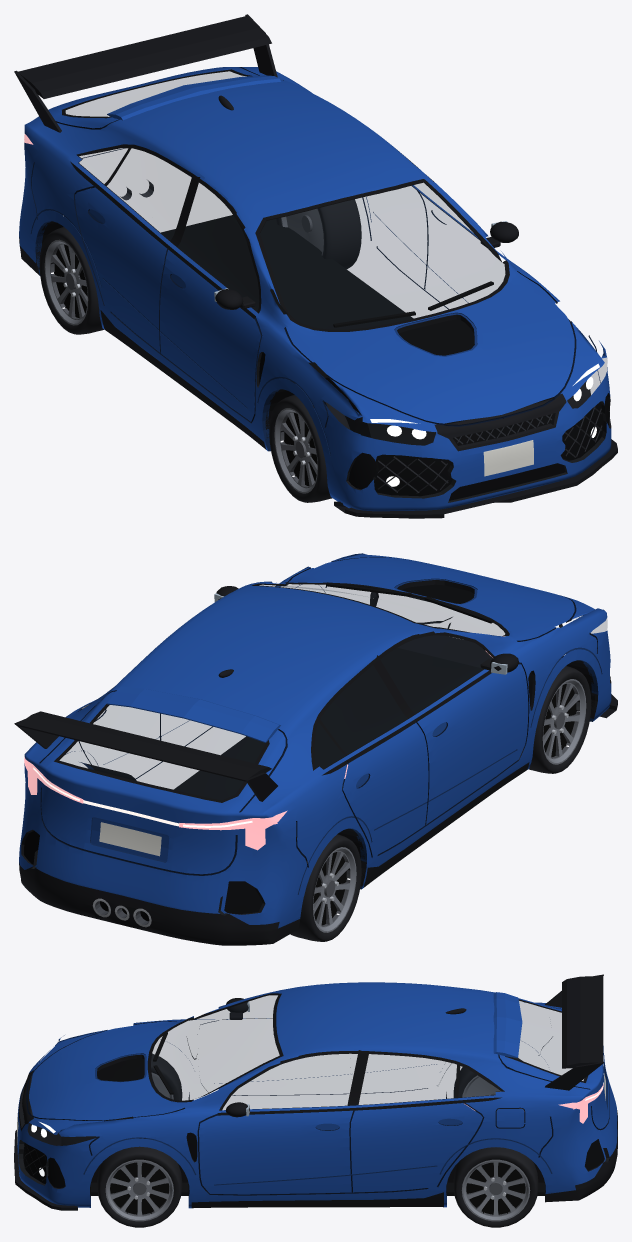
The model's file is car_hatch_r_blue.glb.
3 views of the same model, one above another, from view 1: azimuth 30°, elevation 25°; view 2: azimuth 150°, elevation 25°; view 3: azimuth 270°, elevation 25° (orthographic). The views are drawn at different scales.
Parts seen in each view (by area): view 1: body, wheel_fl, wheel_rl, wheel_rr; view 2: body, wheel_rl, wheel_fl; view 3: body, wheel_rr, wheel_fr, wheel_rl, wheel_fl.
Part boxes in pixels (x1,y1,x2,y2): body: [14, 14, 617, 518]; wheel_fl: [269, 395, 350, 502]; wheel_rl: [39, 227, 103, 334]; wheel_rr: [276, 199, 361, 269]; body: [14, 553, 617, 945]; wheel_rl: [290, 834, 361, 941]; wheel_fl: [528, 666, 591, 773]; body: [14, 974, 617, 1210]; wheel_rr: [453, 1147, 538, 1227]; wheel_fr: [97, 1146, 182, 1227]; wheel_rl: [453, 1057, 523, 1109]; wheel_fl: [151, 1053, 182, 1100].
Size of the model in its own units: 2.03 by 1.42 by 4.58.
